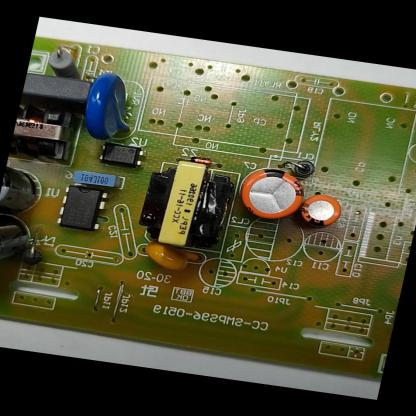Cap1: (230, 159, 310, 224)
Cap2: (293, 190, 345, 229)
Cap3: (0, 160, 48, 219)
Cap4: (0, 214, 40, 279)
MOSFET: (57, 180, 114, 231)
Mov: (76, 68, 136, 144)
Resistor: (40, 44, 88, 79)
Transformer: (132, 158, 241, 257), (8, 98, 82, 167)
